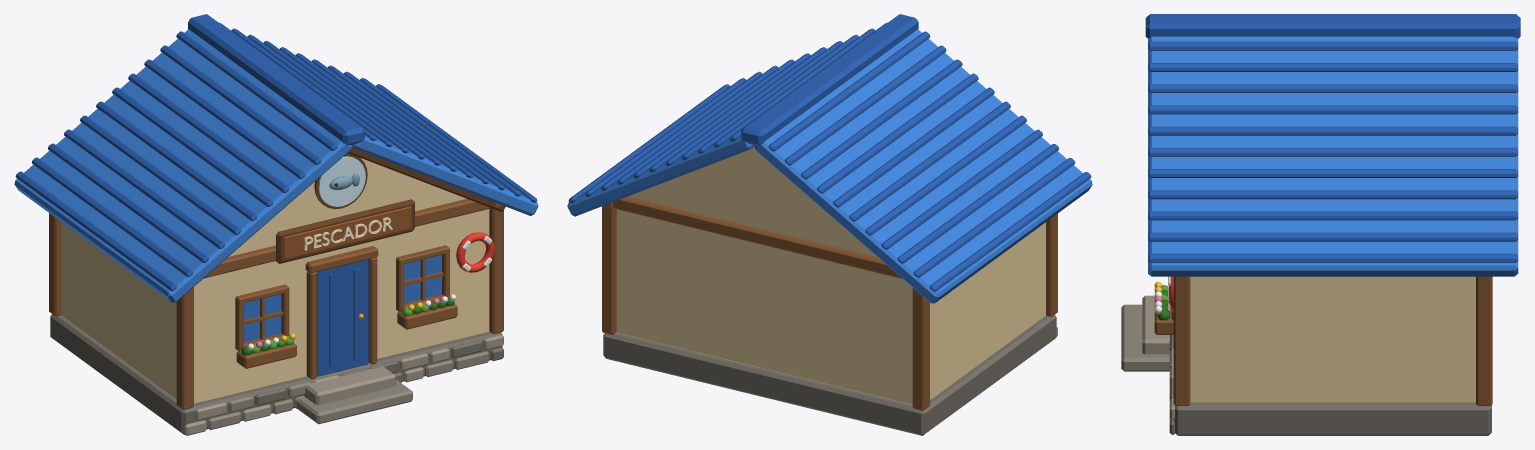
File: casa_pescador.glb
The picture shows the model from 3 angles, left to right: view 1: azimuth 30°, elevation 25°; view 2: azimuth 150°, elevation 25°; view 3: azimuth 270°, elevation 25°; orthographic projection. The views are drawn at different scales.
Parts seen in each view (by area): view 1: casa_pescador; view 2: casa_pescador; view 3: casa_pescador.
Part boxes in pixels (box(x1,y1,x2,y2)): casa_pescador: box(14, 14, 538, 435); casa_pescador: box(567, 14, 1092, 435); casa_pescador: box(1121, 14, 1520, 435).
Size of the model in its own units: 6.7 by 4.76 by 5.28.
